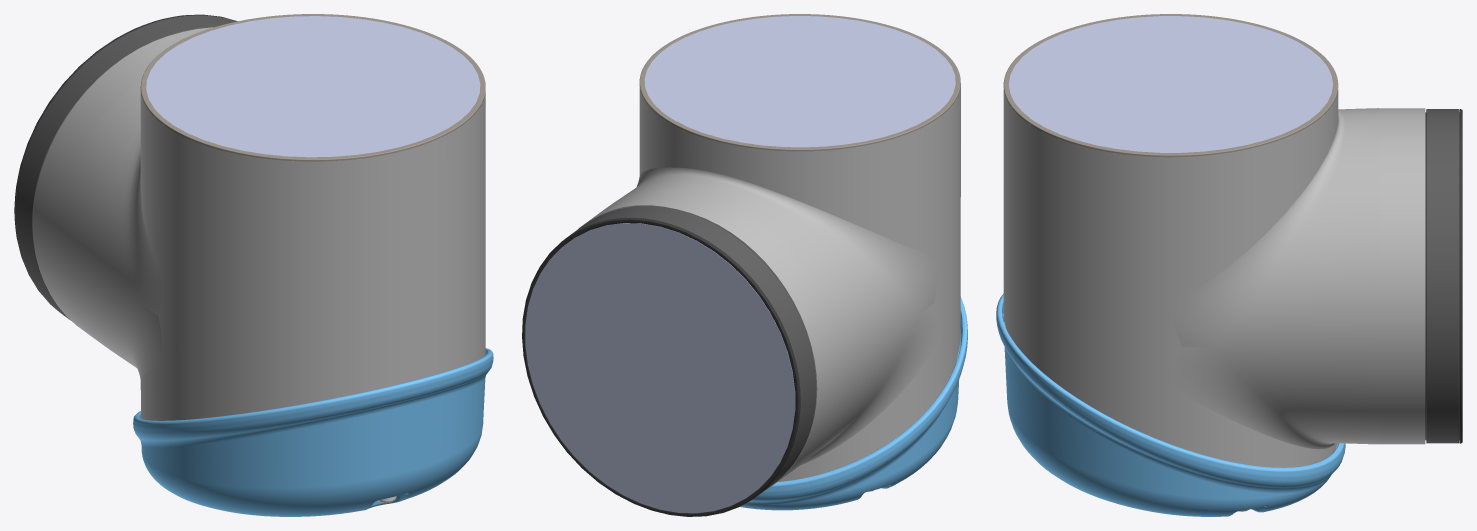
The model's file is Joint3.obj.
3 views of the same model, side by side, from view 1: azimuth 30°, elevation 25°; view 2: azimuth 150°, elevation 25°; view 3: azimuth 270°, elevation 25° (orthographic). The views are drawn at different scales.
Parts seen in each view (by area): view 1: Solid2, Solid1; view 2: Solid2, Solid1; view 3: Solid2, Solid1.
Boxes of the visible parts, left/top/right/bottom form: Solid2: left=14, top=14, right=493, bottom=516; Solid1: left=140, top=14, right=485, bottom=161; Solid2: left=522, top=16, right=967, bottom=516; Solid1: left=639, top=14, right=960, bottom=151; Solid2: left=996, top=16, right=1462, bottom=516; Solid1: left=1003, top=14, right=1338, bottom=157.
Size of the model in its own units: 0.094 by 0.114 by 0.1254.
